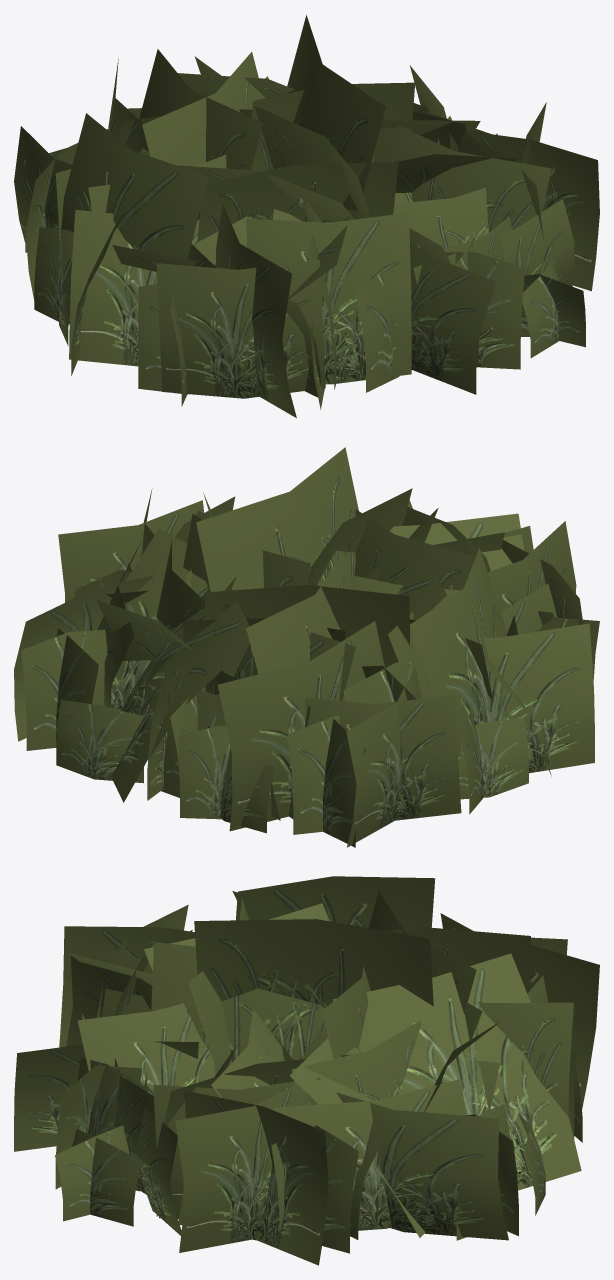
File: SM_Grass_big_clump_A.fbx
The picture shows the model from 3 angles, top to bottom: view 1: azimuth 30°, elevation 25°; view 2: azimuth 150°, elevation 25°; view 3: azimuth 270°, elevation 25°; orthographic projection. The views are drawn at different scales.
Visible parts, largest first — view 1: SM_Grass_big_clump_A; view 2: SM_Grass_big_clump_A; view 3: SM_Grass_big_clump_A.
Boxes of the visible parts, bbox=[...] form: SM_Grass_big_clump_A: bbox=[14, 15, 599, 418]; SM_Grass_big_clump_A: bbox=[14, 447, 599, 847]; SM_Grass_big_clump_A: bbox=[14, 876, 599, 1265].
Bounding box in the file's own units: 228 × 100 × 223.
